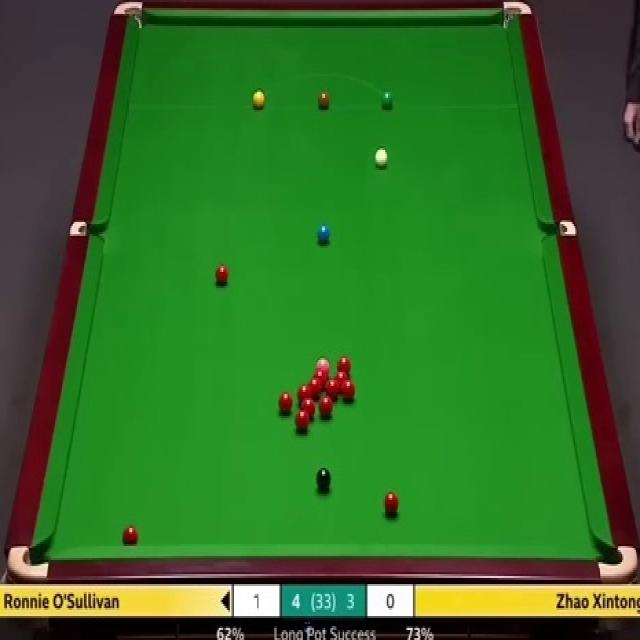pocket: (6, 543, 49, 585), (596, 543, 636, 582), (501, 0, 530, 32), (113, 0, 143, 28), (68, 218, 102, 238), (540, 220, 574, 235)
